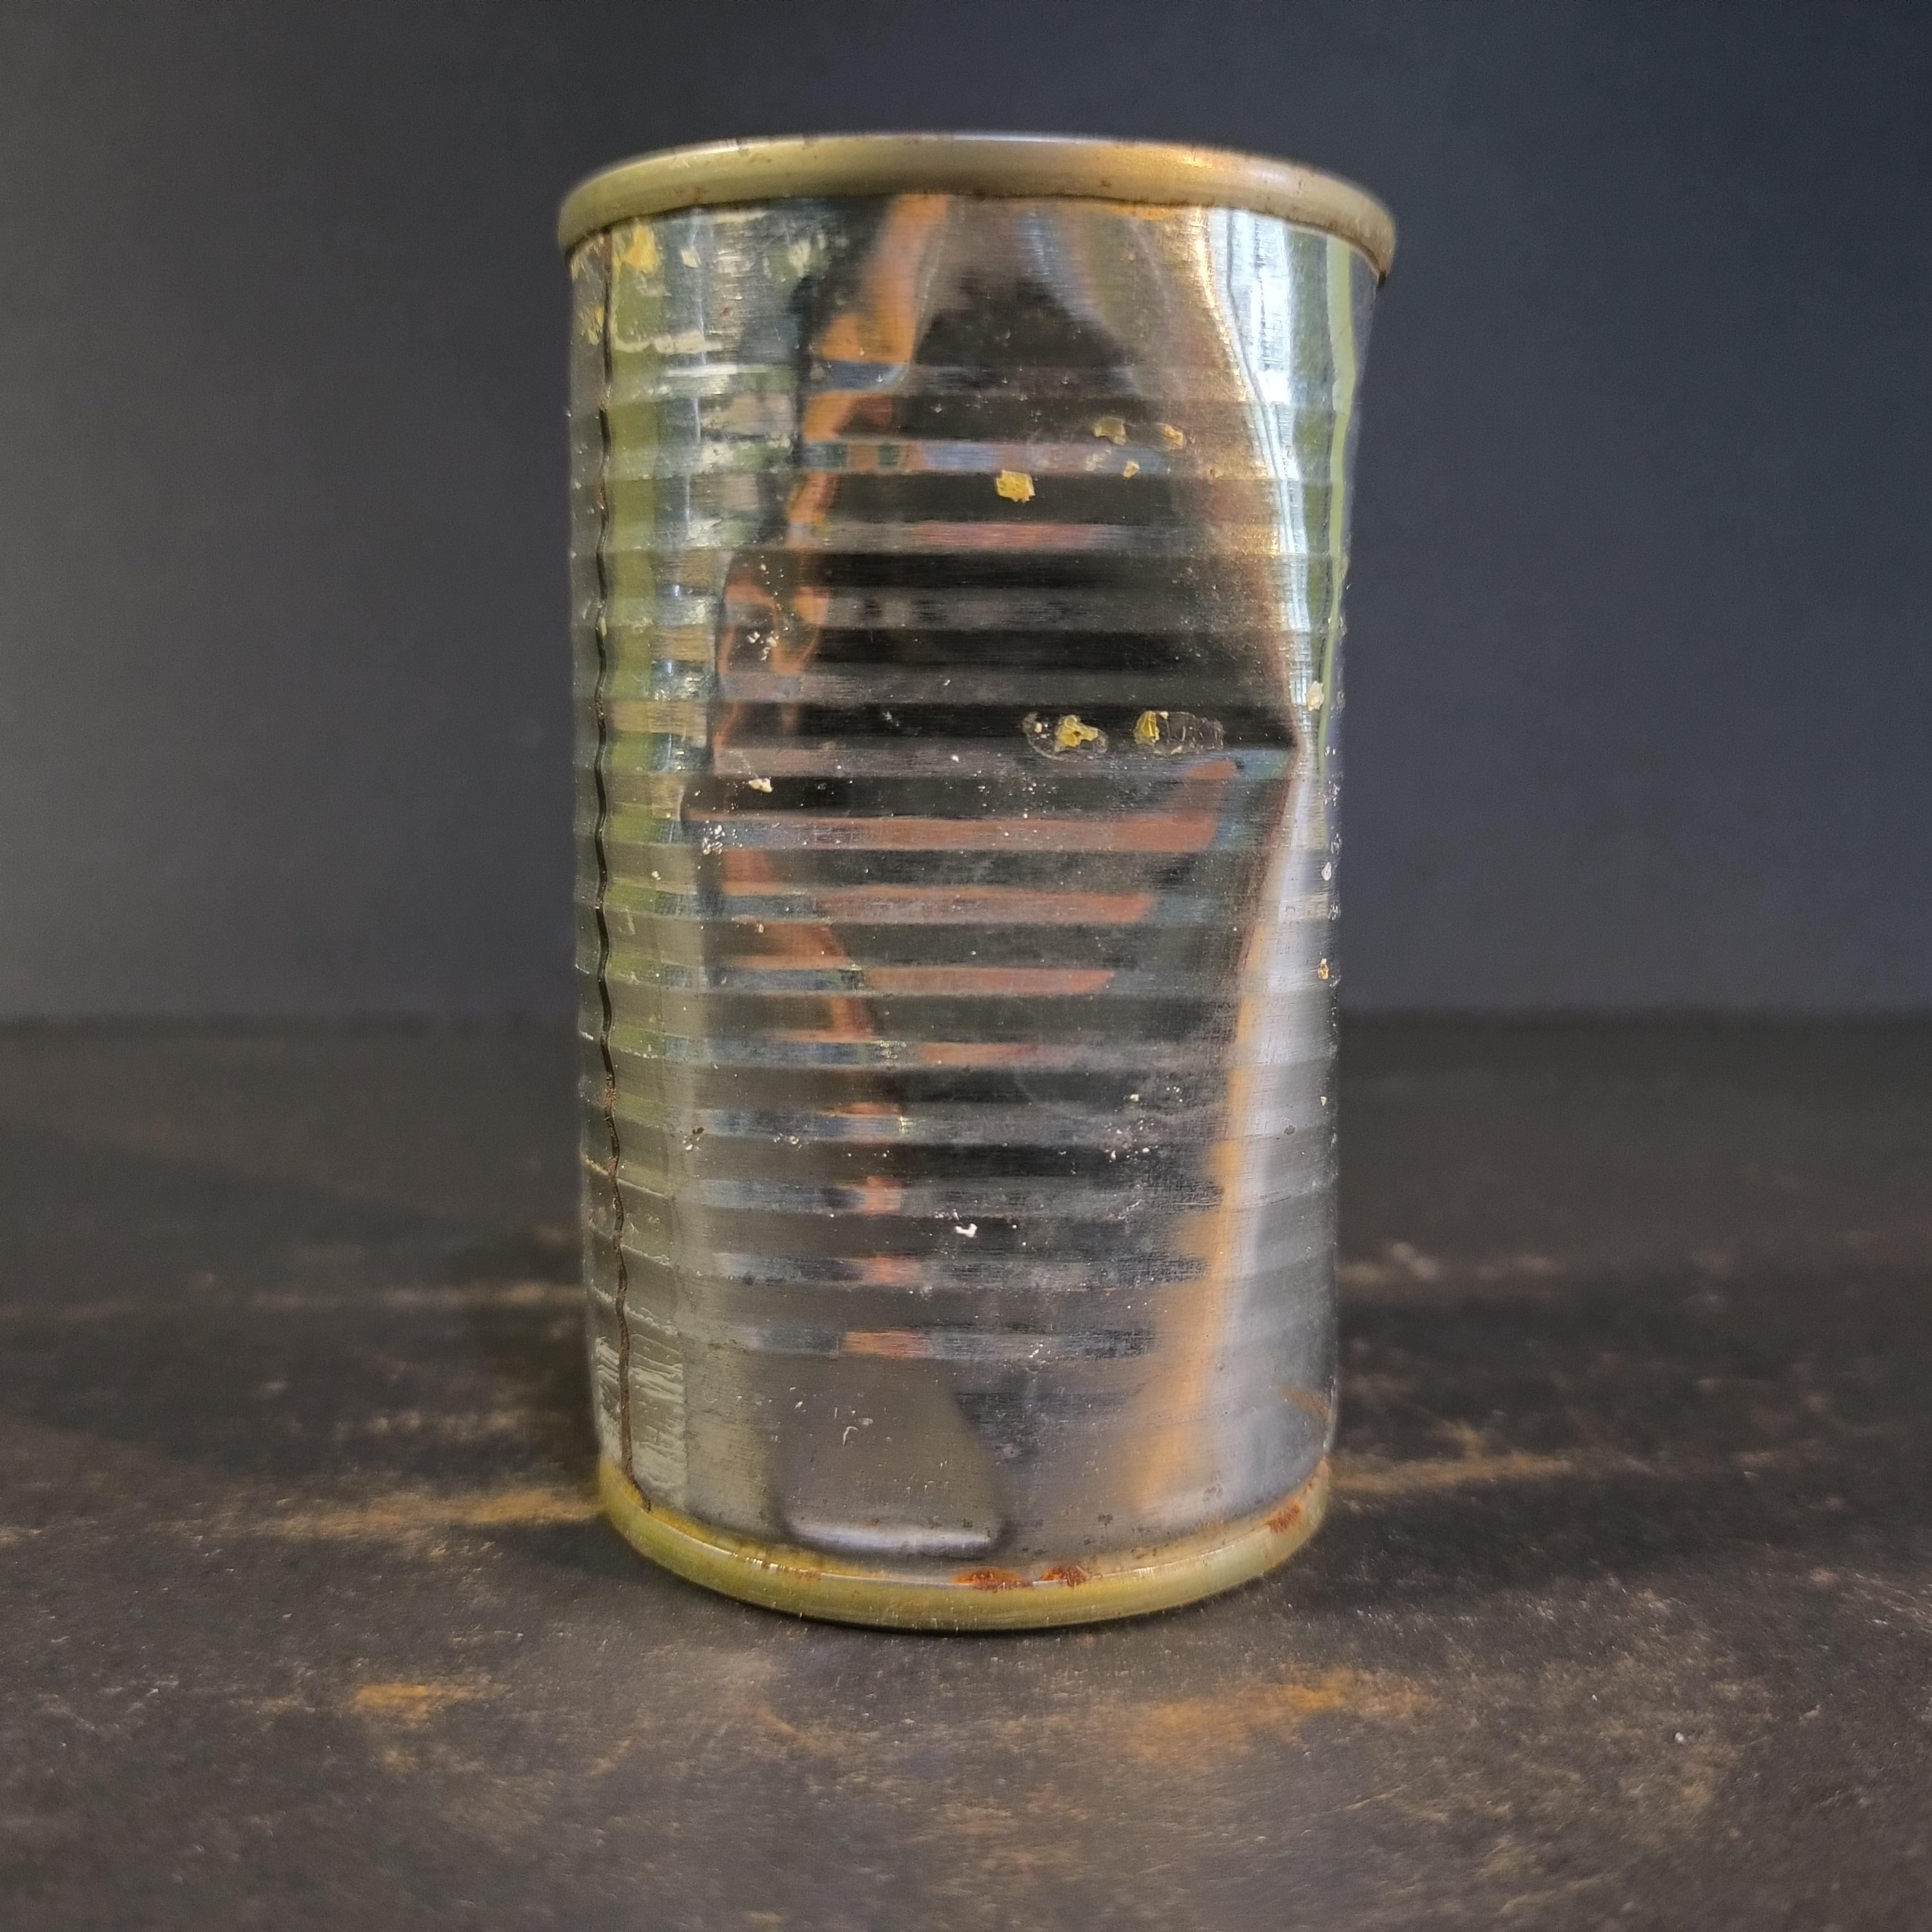Dented: (534, 106, 1396, 1644)
